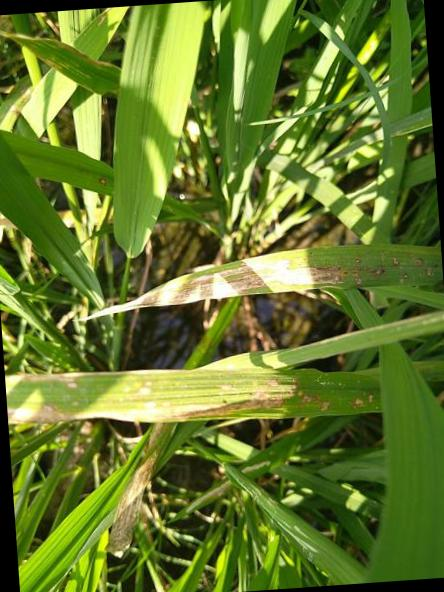Leaf Streak: (79, 244, 443, 322), (5, 358, 381, 431), (107, 422, 166, 559), (0, 33, 121, 98)
